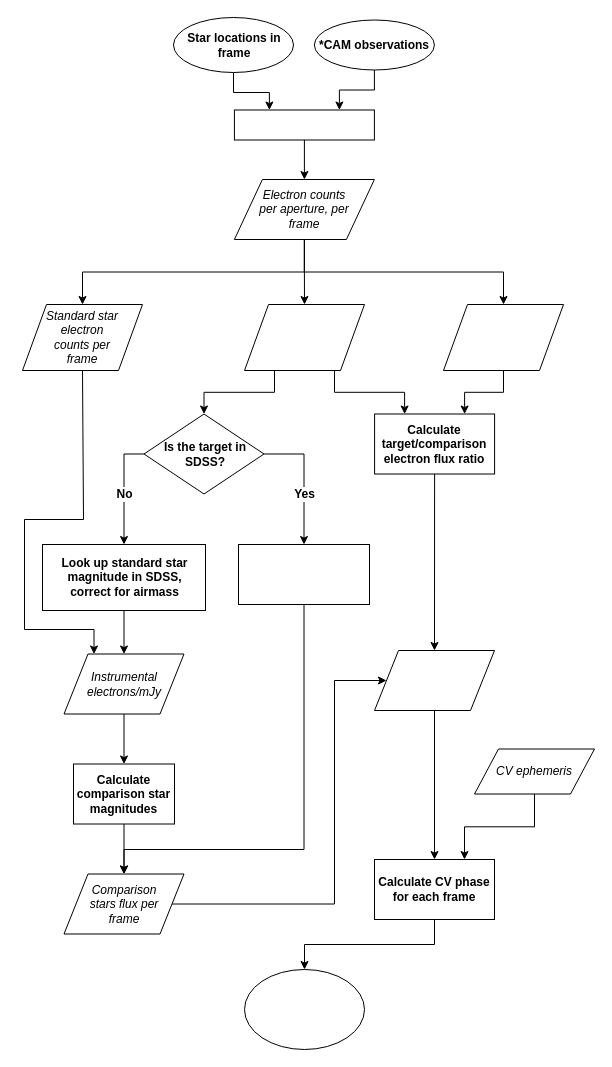
The diagram is 612 pixels wide and 1067 high, and some of its shapes have lost their labels. The centre of each missing label's shape, as x and y in pixels:
Comparison star electron counts per frame: the point at 304,337
Flux calibrated, Phase-folded lightcurve: the point at 304,1009
HiPERCAM Pipeline: the point at 303,124
Look up comparison star magnitudes in SDSS: the point at 304,574
Target CV electron counts per frame: the point at 503,337
Target CV flux per frame: the point at 434,680
